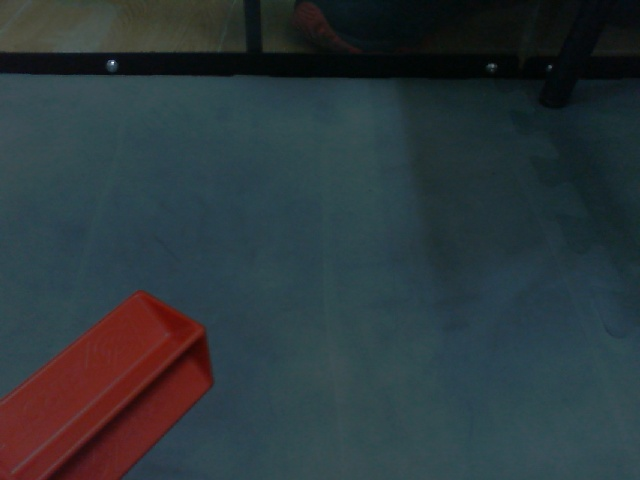RedSample: (1, 289, 218, 478)
